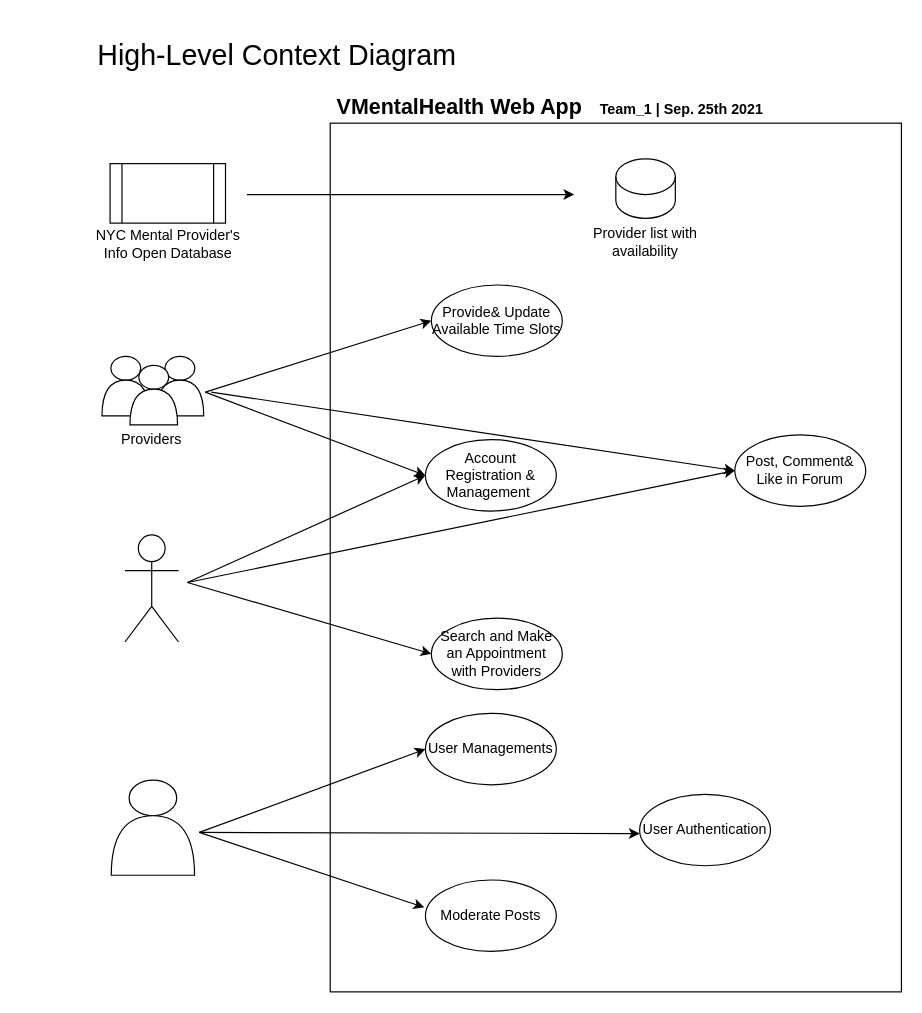
Some shapes in this 922 by 1013 pixel diagram are drawn without their labels. The shapes that lost their labels are listed below. From the top down, each one's centre as x and y in pixels, then its label:
point 151,588: Patients
point 152,845: Administrator
